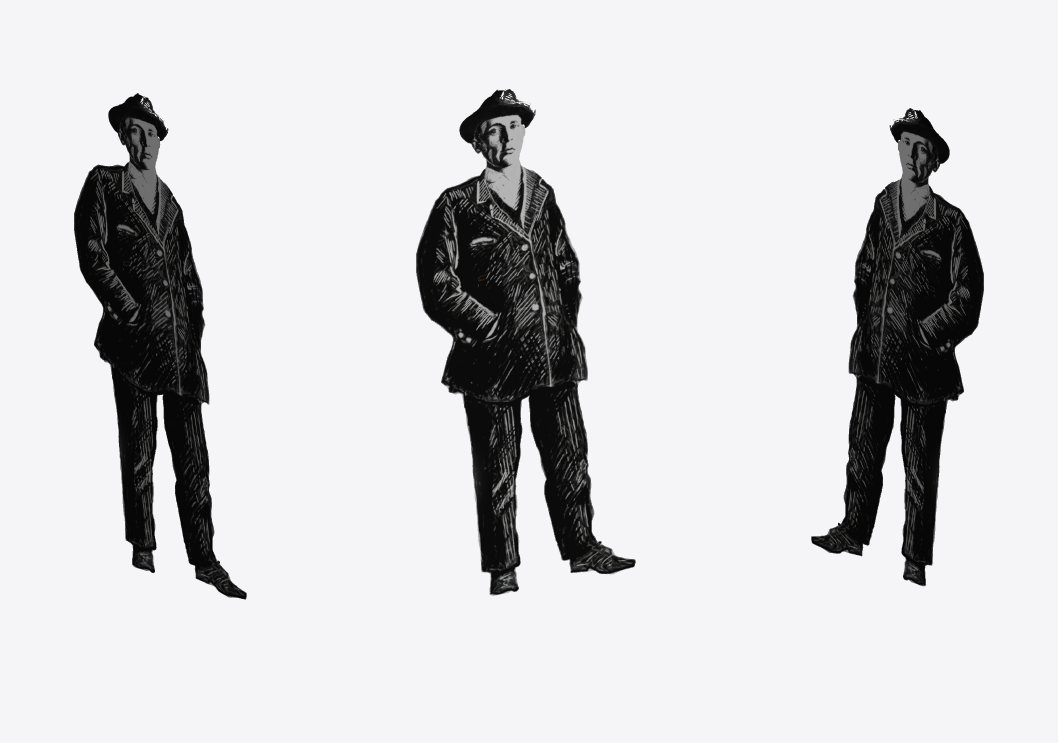
File: Bulgakov.glb
The picture shows the model from 3 angles, left to right: view 1: azimuth 90°, elevation 25°; view 2: azimuth 150°, elevation 25°; view 3: azimuth 270°, elevation 25°; orthographic projection. The views are drawn at different scales.
Visible parts, largest first — view 1: Bulgakov; view 2: Bulgakov; view 3: Bulgakov.
Boxes of the visible parts, <box> form: Bulgakov: <box>74,93,246,599</box>; Bulgakov: <box>416,89,635,595</box>; Bulgakov: <box>811,108,983,586</box>.
Bounding box in the file's own units: 0.1617 × 0.459 × 0.2013.
1 material, 1 textured.
